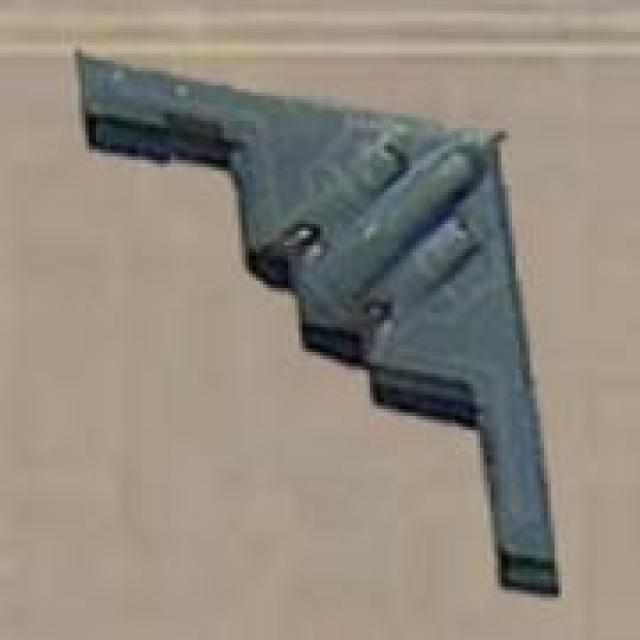B-2_TopDown: (68, 43, 566, 597)
